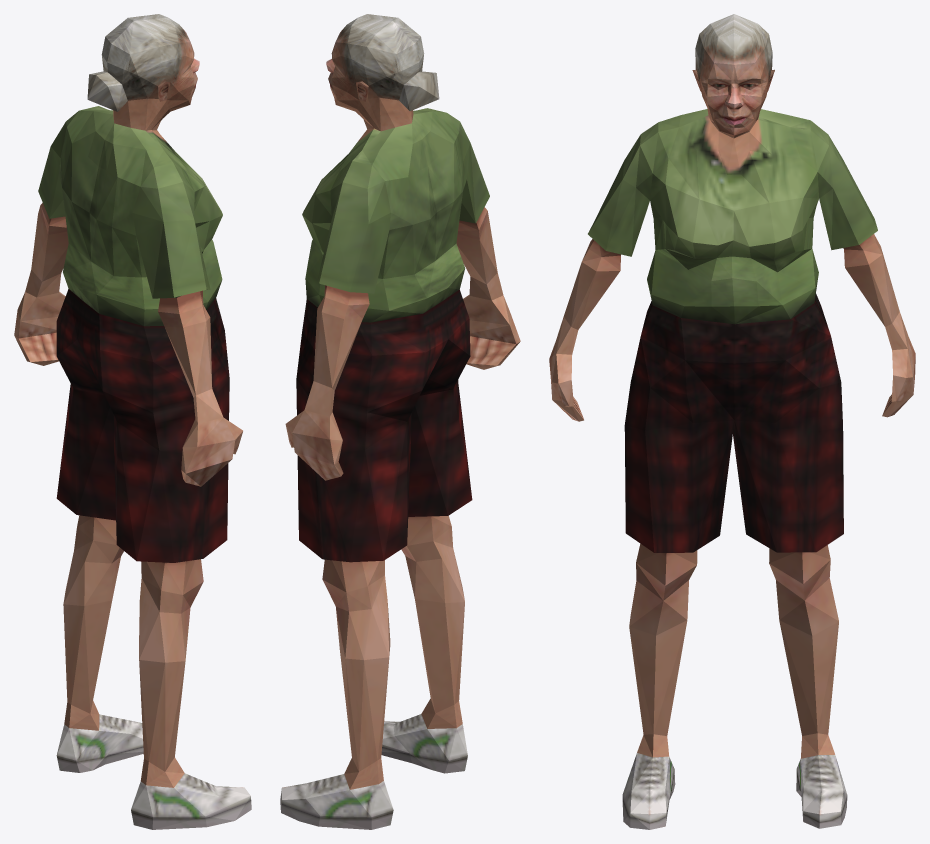
File: swfori.obj
3 views of the same model, side by side, from view 1: azimuth 30°, elevation 25°; view 2: azimuth 150°, elevation 25°; view 3: azimuth 270°, elevation 25° (orthographic).
Visible parts, largest first — view 1: _Pelvis; view 2: _Pelvis; view 3: _Pelvis.
Boxes of the visible parts, x1,y1,x2,y2 form: _Pelvis: (14, 14, 251, 829); _Pelvis: (280, 14, 520, 829); _Pelvis: (549, 14, 915, 829).
Bounding box in the file's own units: 0.2986 × 1.66 × 0.7021.
Materials: 1 (1 with a texture image).
